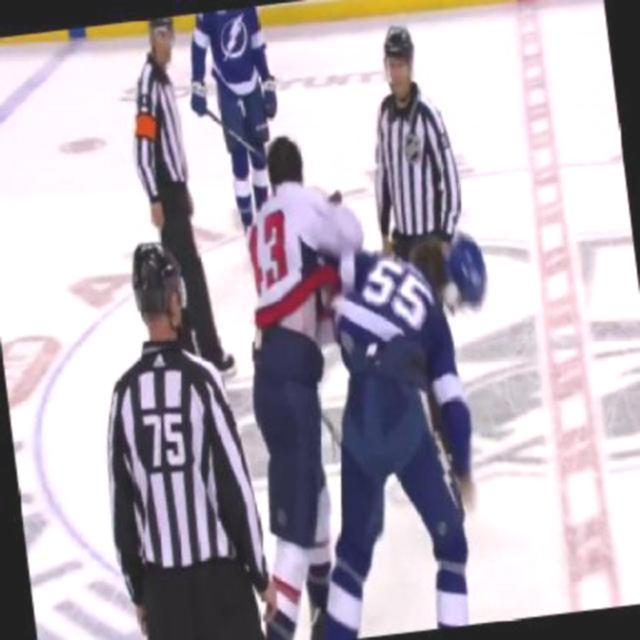fight: (218, 114, 500, 638)
